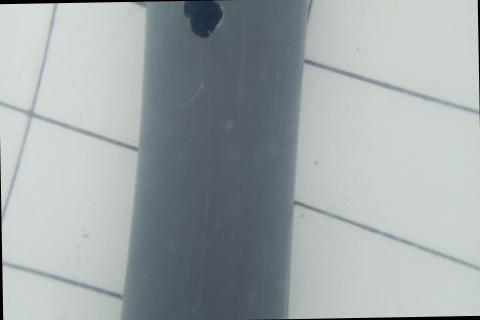kebocoran: (179, 0, 226, 41)
